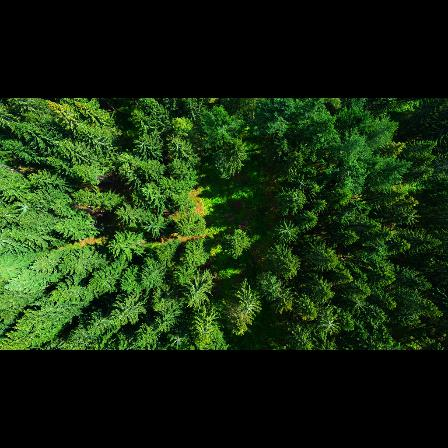Sick: (318, 313, 343, 336), (348, 292, 371, 314), (399, 205, 423, 226)
